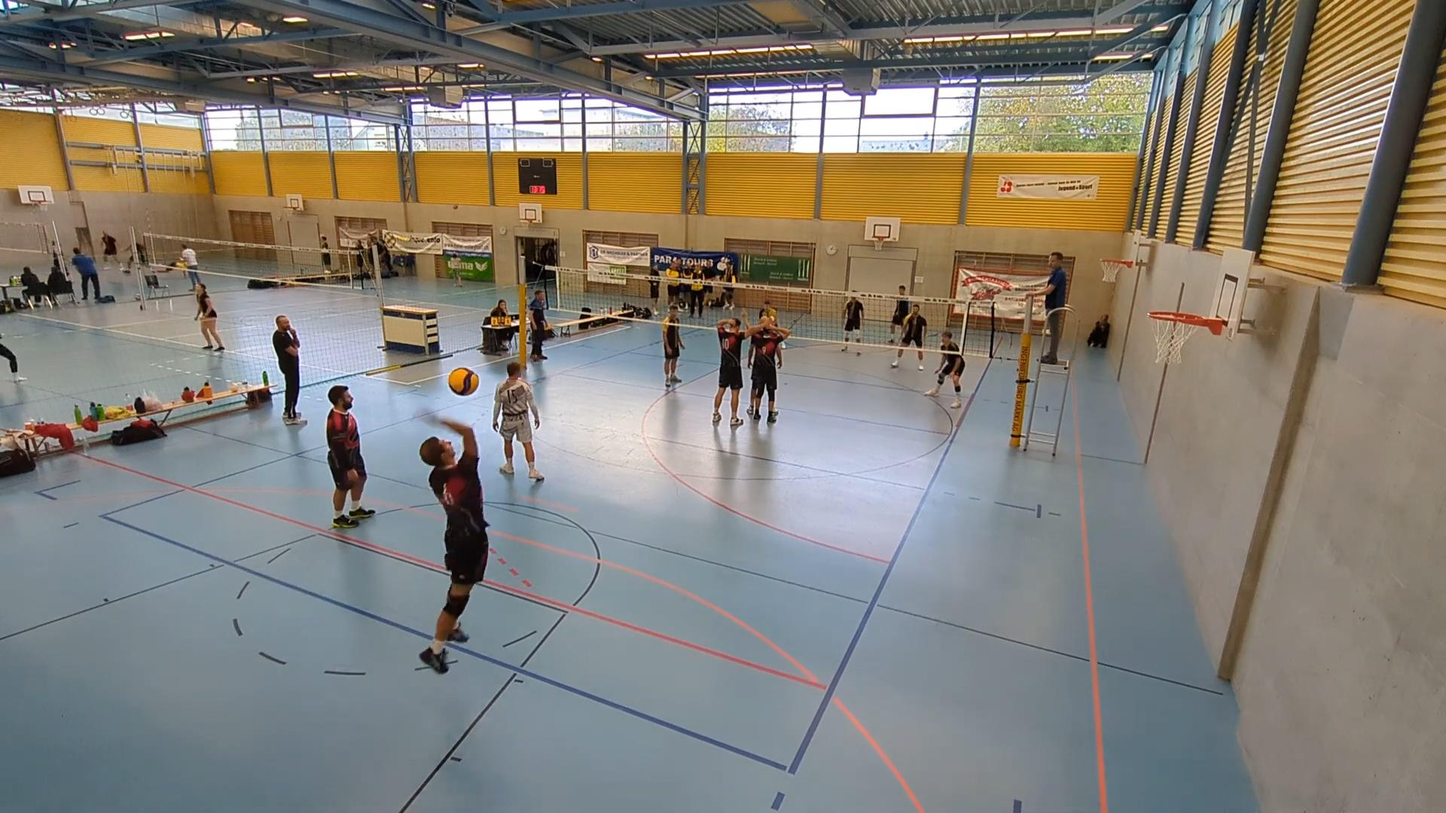Player: (325, 385, 374, 528), (492, 361, 543, 481), (747, 319, 790, 422), (712, 315, 748, 426), (924, 330, 965, 408), (890, 304, 927, 370), (661, 305, 683, 385), (840, 293, 864, 351), (890, 286, 910, 343), (758, 300, 776, 321)
Serve: (422, 406, 494, 676)
ball: (449, 365, 483, 392)
